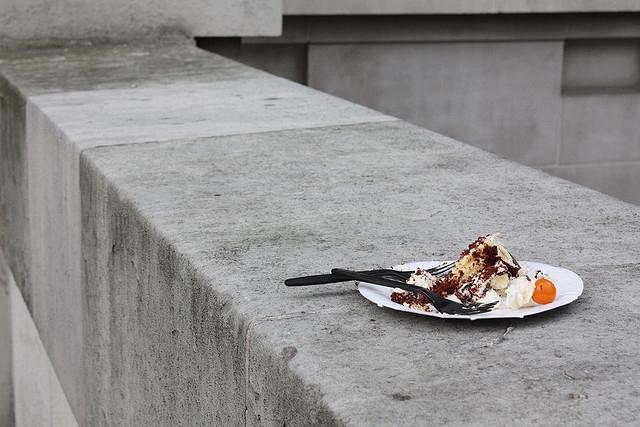tomato: (532, 278, 556, 304)
